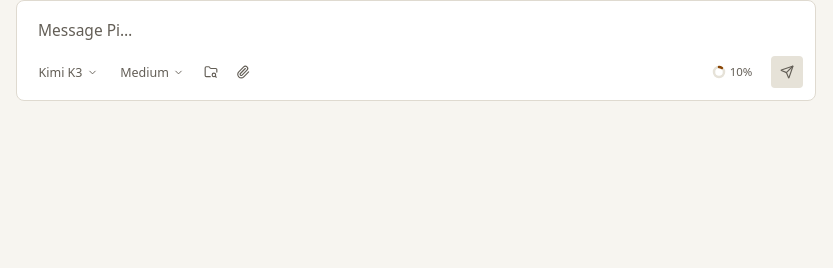
Test: composer meta row › offers bare lowercase thinking levels
Click the dropdown named "Thinking level". click: (152, 72)
box: [111,59,193,85]
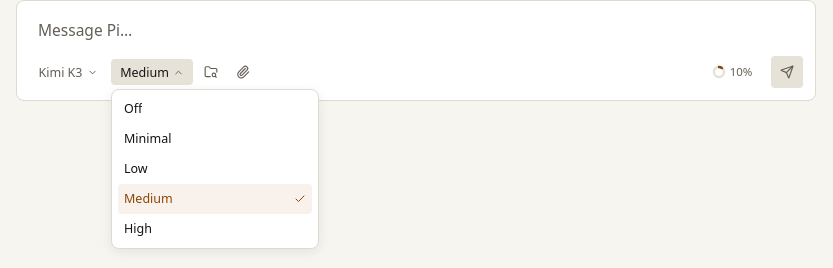
Expected: the option "High" is shown, [124,220,152,237]
